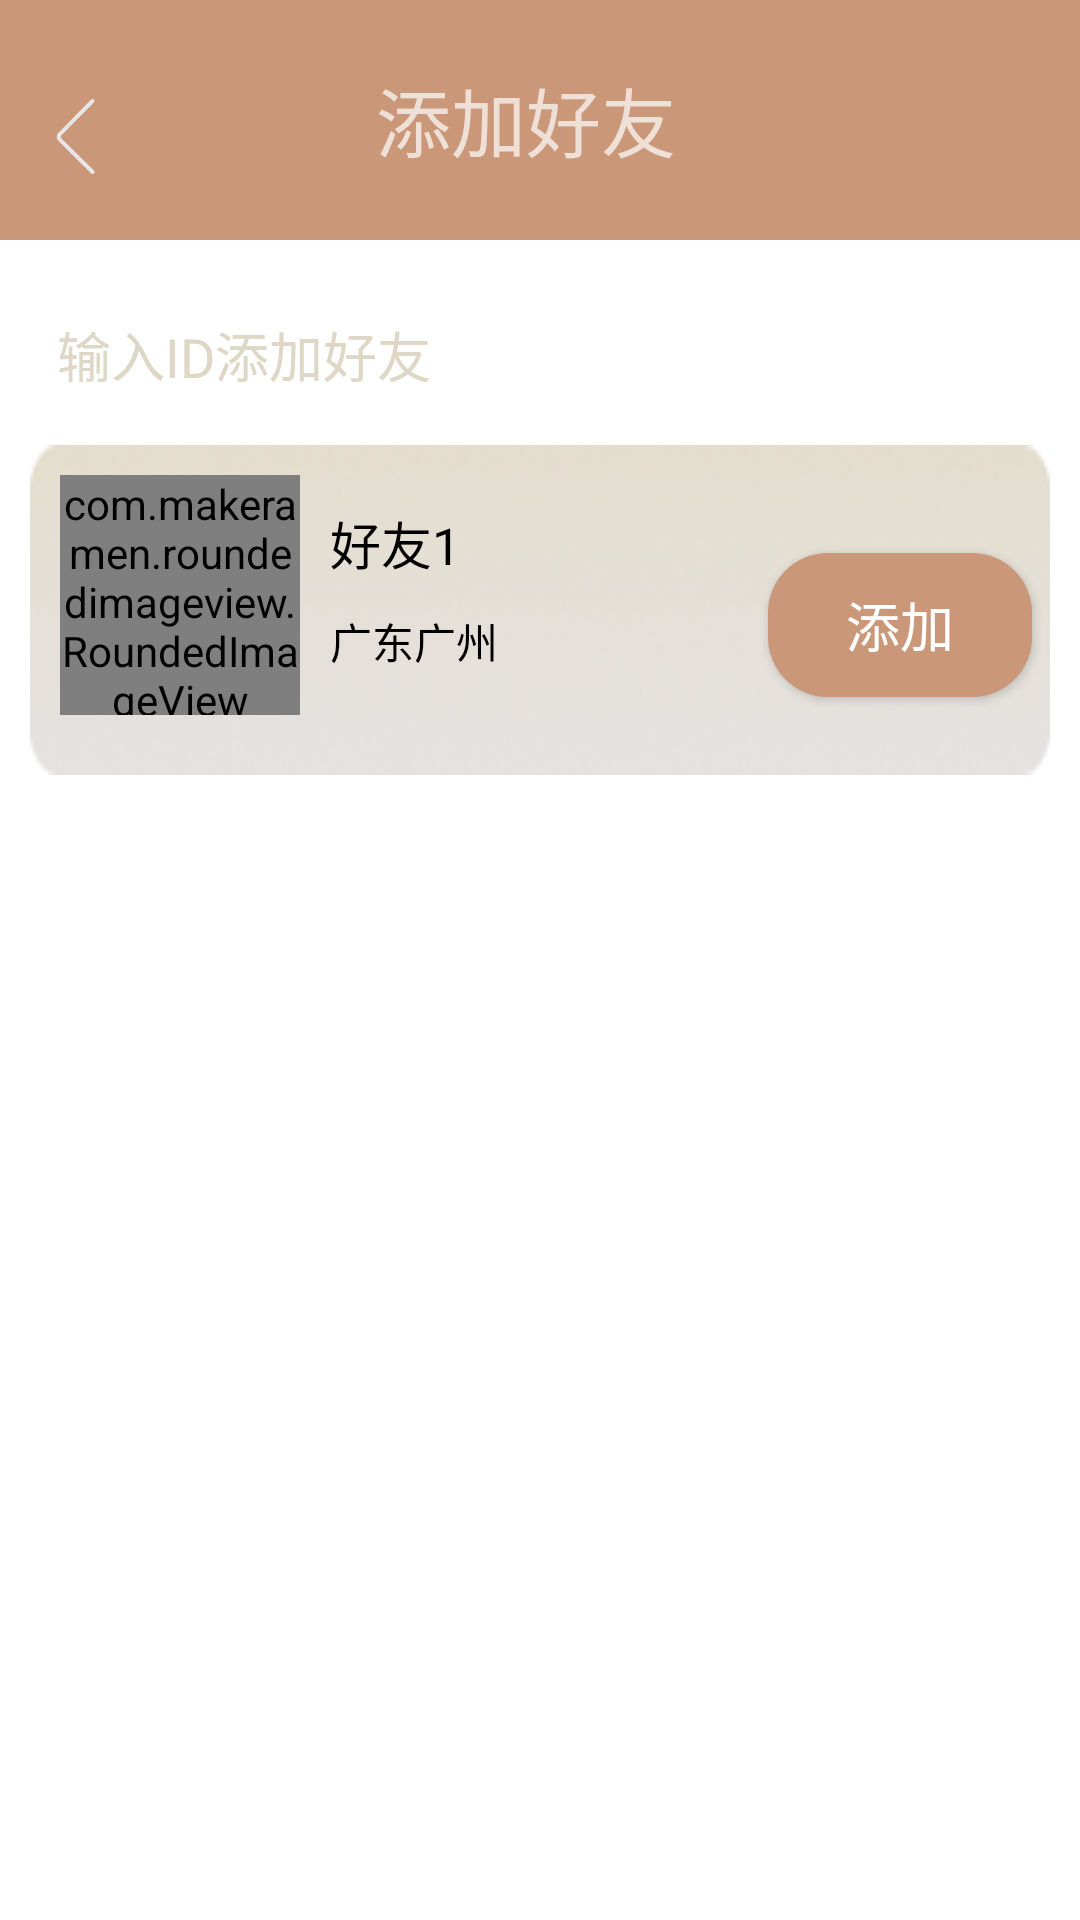

Locate icon controls on the screen. Image size 1080x1920, boxes as (x1, y1, x2, y2).
back: (57, 99, 95, 174)
